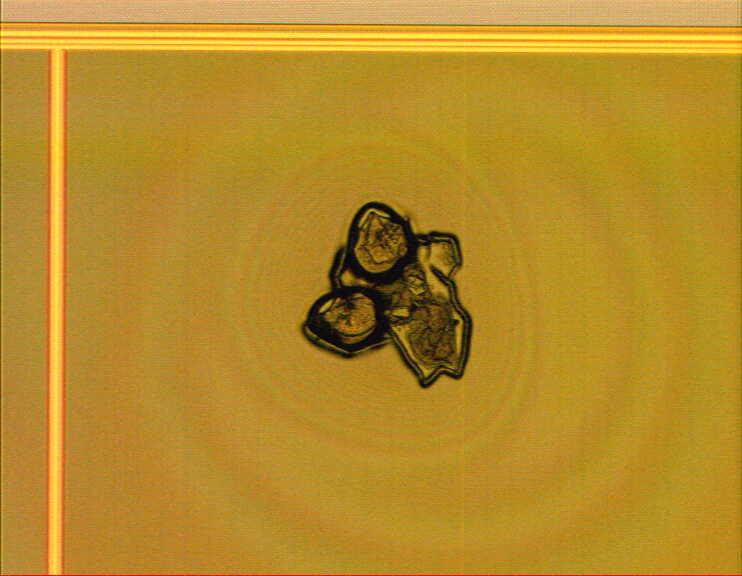PIQ PARTICLE: (301, 196, 480, 397)
